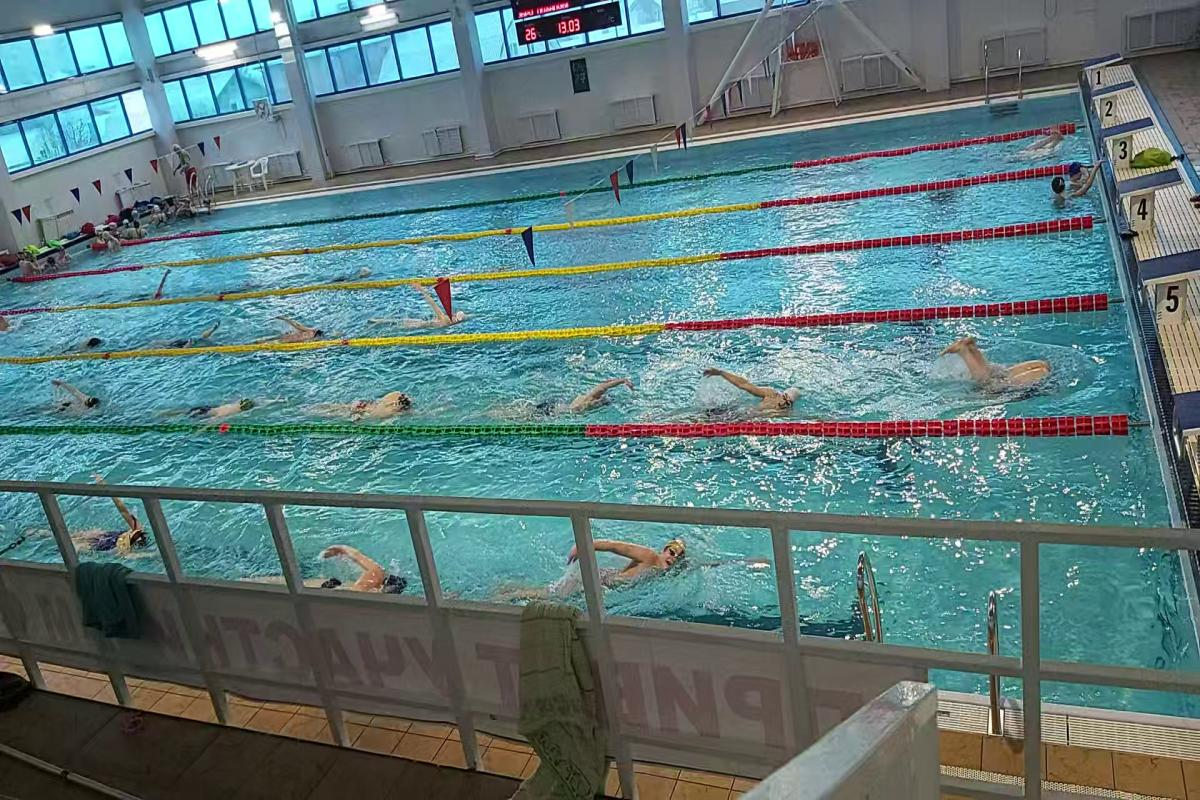swimmer: (512, 520, 715, 599), (239, 535, 415, 593), (686, 358, 806, 416), (940, 331, 1056, 390), (511, 374, 641, 422), (316, 385, 424, 423), (68, 510, 150, 558), (36, 374, 108, 422), (396, 294, 473, 330), (265, 308, 339, 345), (182, 390, 264, 423), (147, 326, 221, 347), (147, 267, 178, 299), (70, 334, 116, 353)
